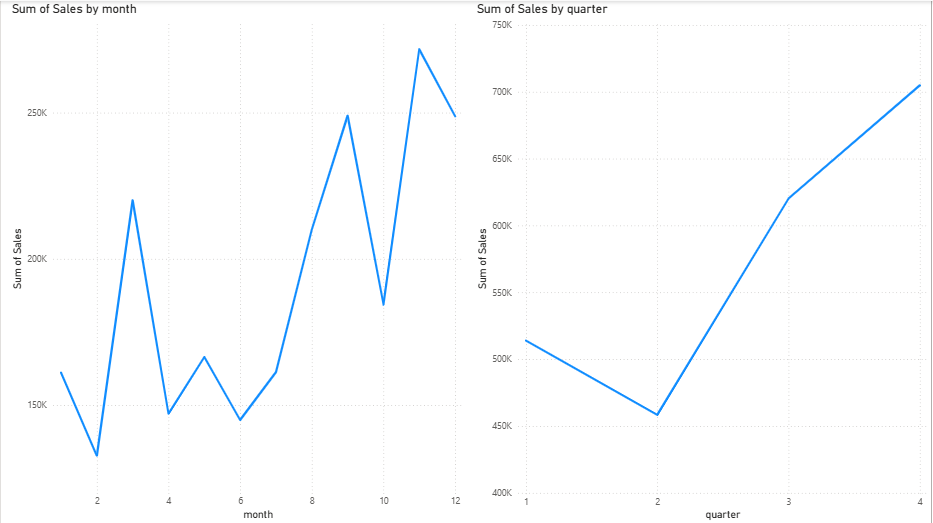

The page's visual inventory and layout, read from the dashboard file:
{"tool":"powerbi","page":{"name":"#1 Q7","canvas":[1280,720],"ordinal":3},"visuals":[{"type":"lineChart","fields":{"Y":["Sum(superstore_US_raw.Sales)"],"Category":["superstore_US_raw.month"]},"box":[9.6,0,630.4,719.8],"z":0},{"type":"lineChart","fields":{"Y":["Sum(superstore_US_raw.Sales)"],"Category":["superstore_US_raw.quarter"]},"box":[650,0,630,720],"z":1000}]}

Visuals, with their boxes in screenshot pixels (x1, y1, x2, y2), scaled from the page's 1280x720 canvas onto the 933x523 screenshot:
lineChart - Sum(superstore_US_raw.Sales) x superstore_US_raw.month: region(7, 0, 466, 522)
lineChart - Sum(superstore_US_raw.Sales) x superstore_US_raw.quarter: region(474, 0, 932, 522)
